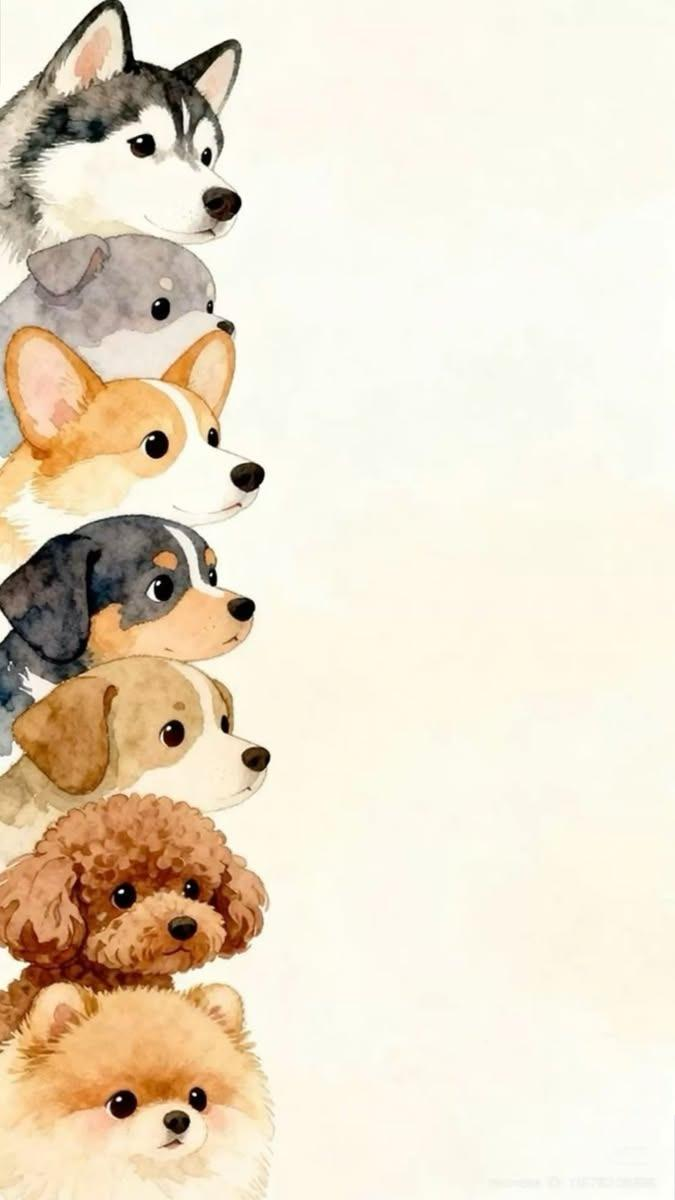adult_dog: (0, 0, 247, 300), (0, 327, 272, 580), (0, 788, 272, 1040), (0, 979, 280, 1200)
puppy-dog: (0, 514, 260, 753), (0, 658, 278, 868), (0, 230, 242, 451)
